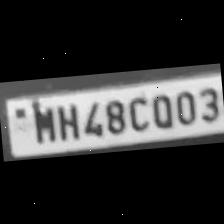0: (170, 84, 197, 124)
3: (196, 81, 222, 122)
4: (77, 96, 104, 138)
8: (101, 95, 128, 135)
C: (124, 91, 150, 131)
H: (54, 99, 81, 141)
M: (27, 99, 56, 143)
Q: (149, 88, 175, 128)
